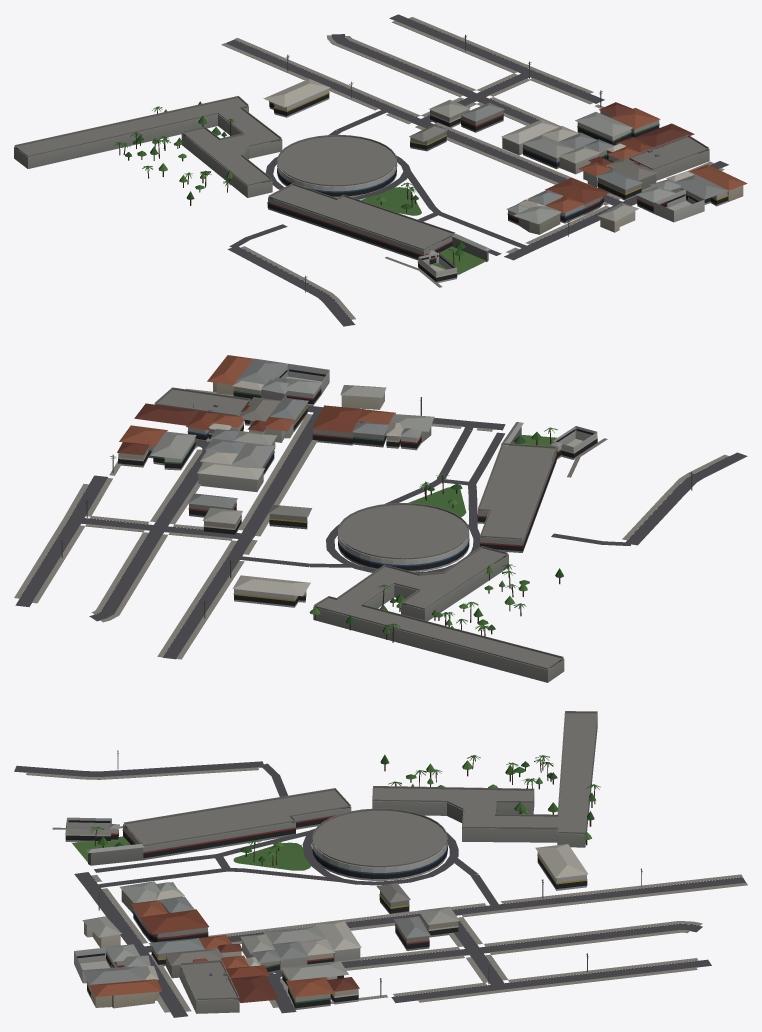
The picture shows the model from 3 angles, top to bottom: view 1: azimuth 30°, elevation 25°; view 2: azimuth 150°, elevation 25°; view 3: azimuth 270°, elevation 25°; orthographic projection. The views are drawn at different scales.
Parts seen in each view (by area): view 1: Buildings__r-14c-10-col, Roads_Minor__r-14c-10, Sidewalks__r-14c-10-col, Aznar Coliseum-col, Windows__r-14c-10, Landuse__r-14c-10, Props_Foliage__r-14c-10, Props_Solid__r-14c-10-col; view 2: Buildings__r-14c-10-col, Roads_Minor__r-14c-10, Sidewalks__r-14c-10-col, Aznar Coliseum-col, Windows__r-14c-10, Props_Foliage__r-14c-10, Landuse__r-14c-10, Props_Solid__r-14c-10-col; view 3: Buildings__r-14c-10-col, Roads_Minor__r-14c-10, Sidewalks__r-14c-10-col, Aznar Coliseum-col, Windows__r-14c-10, Props_Foliage__r-14c-10, Landuse__r-14c-10, Props_Solid__r-14c-10-col.
Boxes of the visible parts, x1=… form: Buildings__r-14c-10-col: x1=14, y1=78, x2=747, y2=282; Roads_Minor__r-14c-10: x1=226, y1=14, x2=728, y2=326; Sidewalks__r-14c-10-col: x1=221, y1=17, x2=724, y2=319; Aznar Coliseum-col: x1=277, y1=134, x2=397, y2=197; Windows__r-14c-10: x1=16, y1=92, x2=728, y2=281; Landuse__r-14c-10: x1=361, y1=187, x2=486, y2=274; Props_Foliage__r-14c-10: x1=114, y1=35, x2=602, y2=279; Props_Solid__r-14c-10-col: x1=119, y1=34, x2=601, y2=292; Buildings__r-14c-10-col: x1=117, y1=355, x2=597, y2=682; Roads_Minor__r-14c-10: x1=15, y1=399, x2=747, y2=659; Sidewalks__r-14c-10-col: x1=14, y1=388, x2=728, y2=659; Aznar Coliseum-col: x1=337, y1=503, x2=469, y2=572; Windows__r-14c-10: x1=118, y1=369, x2=597, y2=661; Props_Foliage__r-14c-10: x1=59, y1=399, x2=694, y2=633; Landuse__r-14c-10: x1=408, y1=435, x2=557, y2=516; Props_Solid__r-14c-10-col: x1=61, y1=397, x2=692, y2=642; Buildings__r-14c-10-col: x1=65, y1=711, x2=597, y2=1013; Roads_Minor__r-14c-10: x1=14, y1=761, x2=745, y2=1017; Sidewalks__r-14c-10-col: x1=26, y1=767, x2=747, y2=1012; Aznar Coliseum-col: x1=312, y1=808, x2=447, y2=880; Windows__r-14c-10: x1=65, y1=807, x2=587, y2=1008; Props_Foliage__r-14c-10: x1=89, y1=751, x2=642, y2=982; Landuse__r-14c-10: x1=72, y1=836, x2=310, y2=870; Props_Solid__r-14c-10-col: x1=94, y1=750, x2=641, y2=996.
Size of the model in its own units: 312 by 11.35 by 330.
